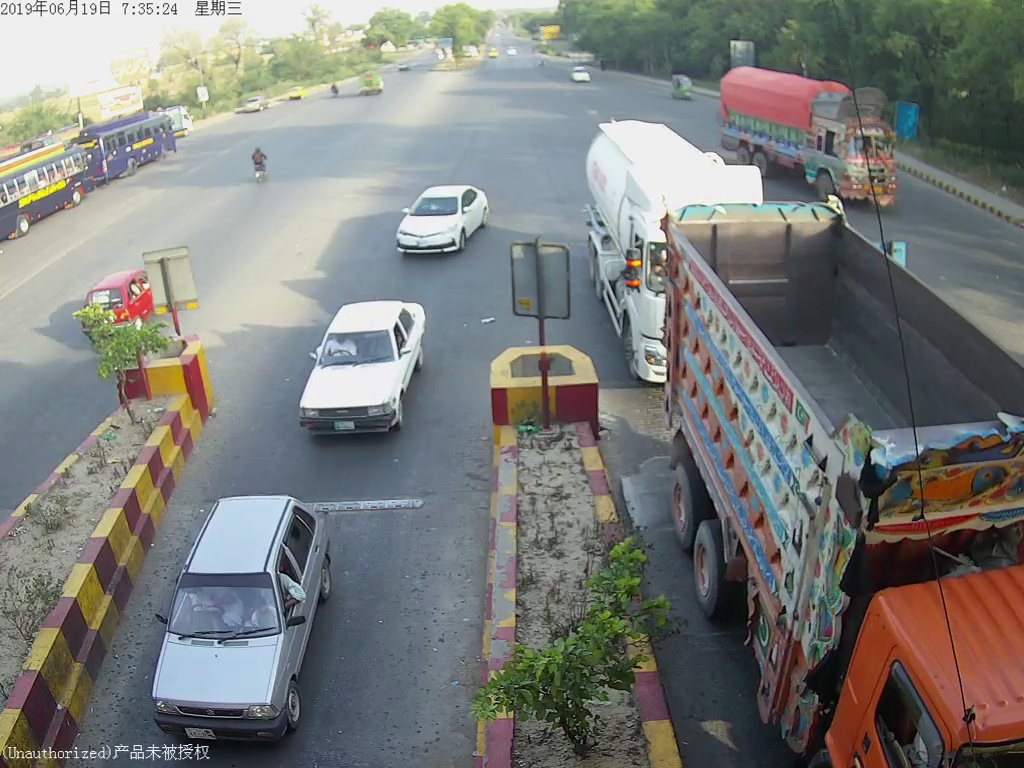Cat-1: (159, 495, 327, 732), (298, 296, 412, 436), (390, 176, 495, 268)
